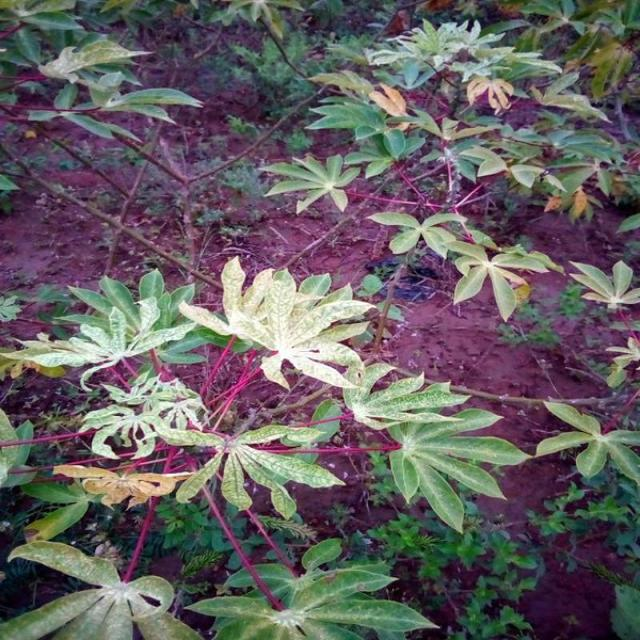cassava leaf: (1, 255, 532, 636), (178, 254, 377, 392)
